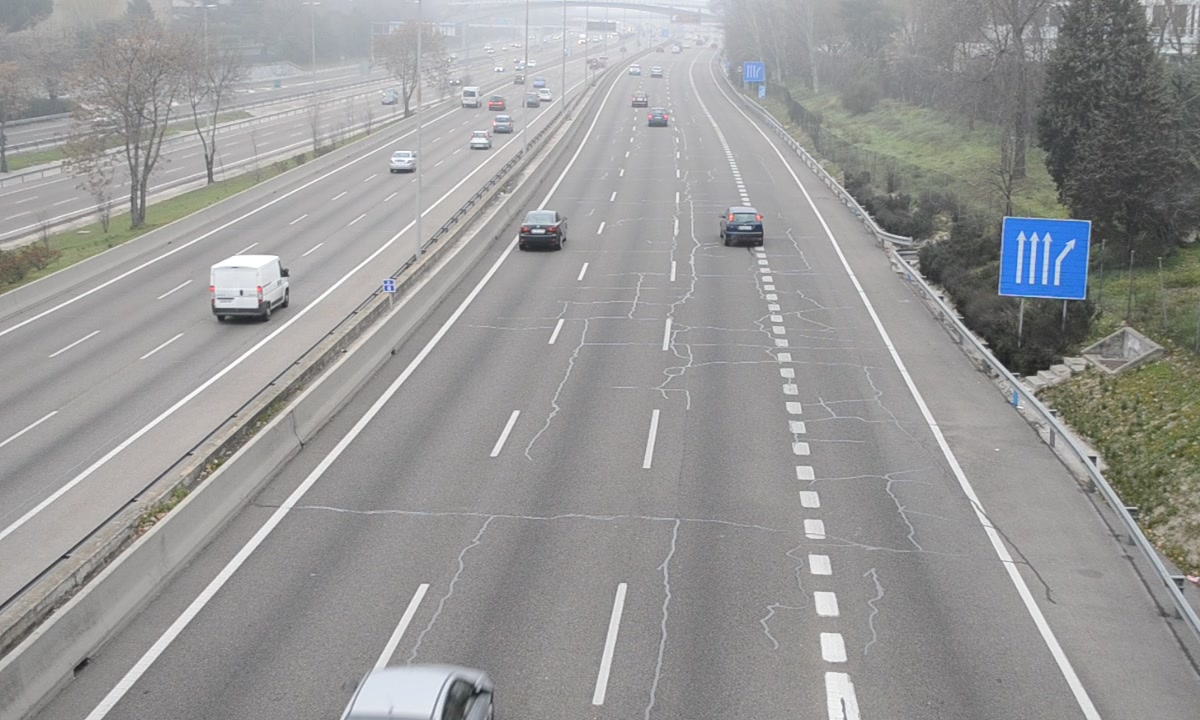car: (519, 210, 566, 249), (722, 207, 763, 243)
